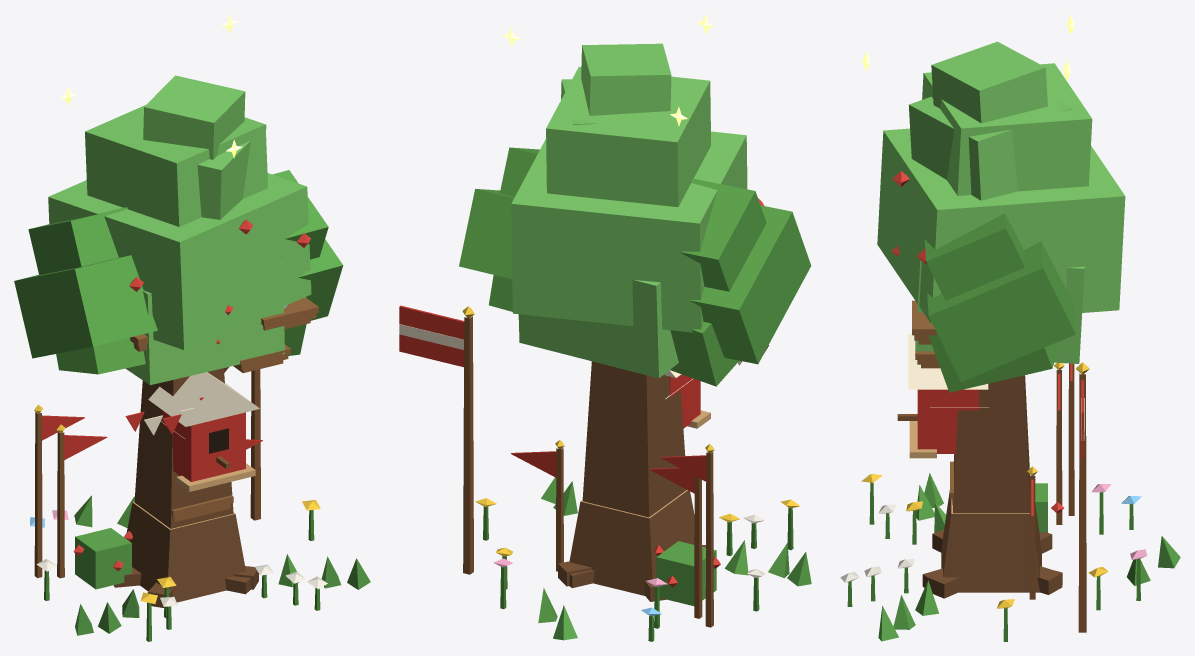
File: robin-nest-grove-blocky.glb
3 renders of one model, left to right at view 1: azimuth 30°, elevation 25°; view 2: azimuth 150°, elevation 25°; view 3: azimuth 270°, elevation 25°, orthographic. The views are drawn at different scales.
Visible parts, largest first — view 1: lv3, lv1, lv2; view 2: lv3, lv2, lv1; view 3: lv3, lv1, lv2.
Boxes of the visible parts, left/top/right/bottom form: lv3: left=14, top=14, right=370, bottom=641; lv1: left=73, top=439, right=298, bottom=617; lv2: left=52, top=262, right=340, bottom=633; lv3: left=399, top=14, right=811, bottom=641; lv2: left=489, top=275, right=789, bottom=628; lv1: left=511, top=440, right=748, bottom=605; lv3: left=840, top=14, right=1180, bottom=641; lv1: left=898, top=461, right=1063, bottom=615; lv2: left=864, top=260, right=1150, bottom=629.
Bounding box in the file's own units: 1.71 × 2.7 × 1.5.
